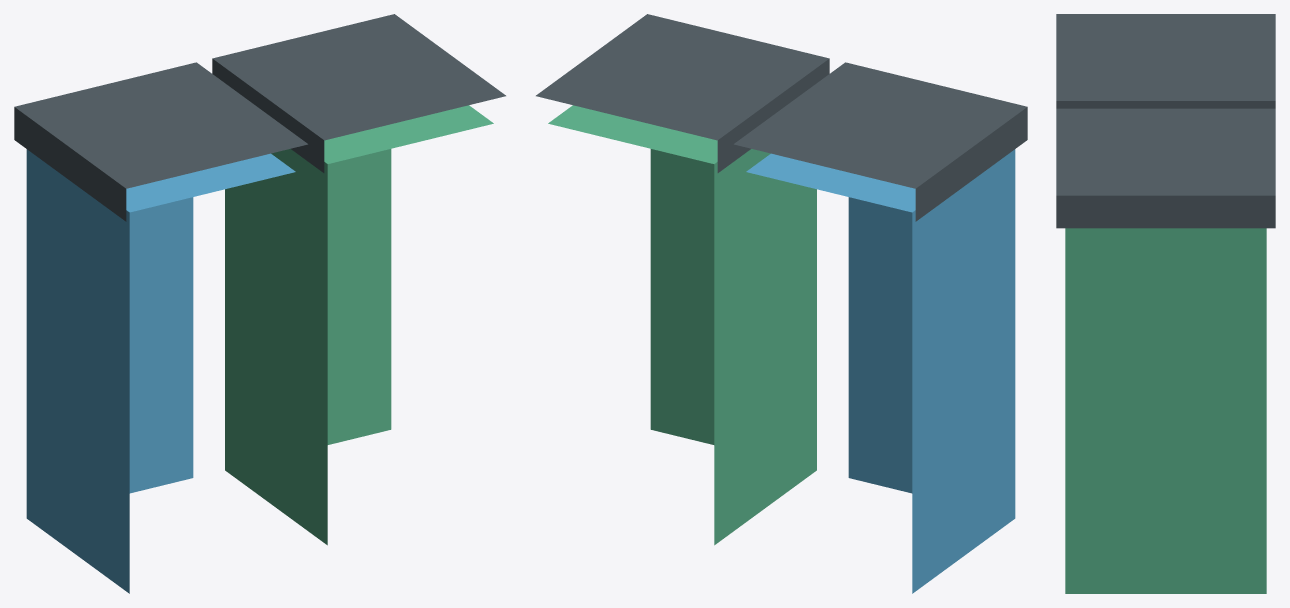
Rendered from bin.glb.
The picture shows the model from 3 angles, left to right: view 1: azimuth 30°, elevation 25°; view 2: azimuth 150°, elevation 25°; view 3: azimuth 270°, elevation 25°; orthographic projection. The views are drawn at different scales.
Size of the model in its own units: 0.96 by 0.99 by 0.49.
